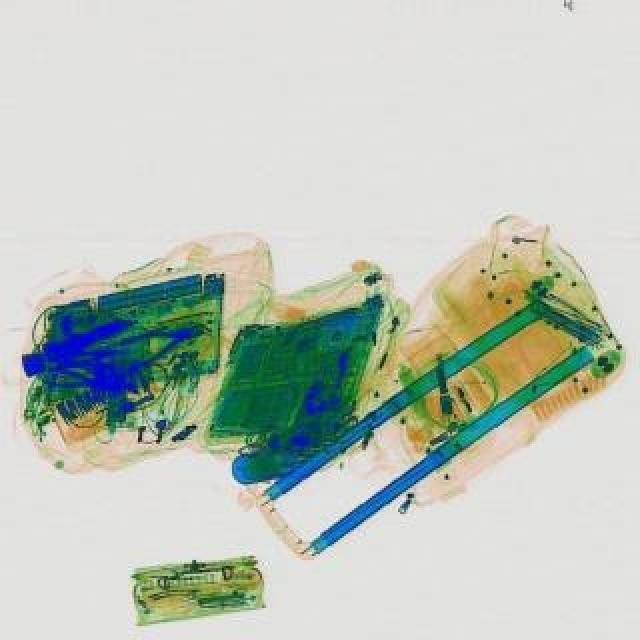wrench: (116, 310, 208, 370), (40, 362, 108, 392)
